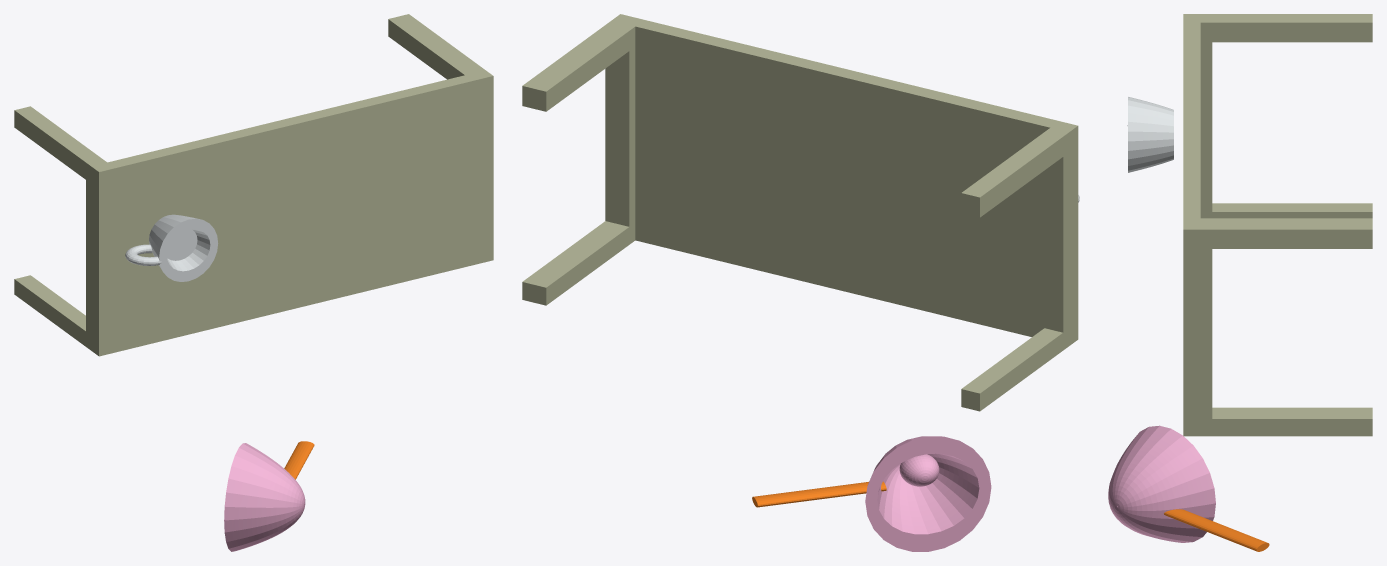
The model's file is tinker.obj.
3 views of the same model, side by side, from view 1: azimuth 30°, elevation 25°; view 2: azimuth 150°, elevation 25°; view 3: azimuth 270°, elevation 25° (orthographic). The views are drawn at different scales.
Visible parts, largest first — view 1: group_0_11909273, group_0_15708628, group_0_14541540, group_0_16089887; view 2: group_0_11909273, group_0_15708628, group_0_16089887; view 3: group_0_11909273, group_0_15708628, group_0_14541540, group_0_16089887.
Boxes of the visible parts, x1=… form: group_0_11909273: x1=14, y1=14, x2=493, y2=356; group_0_15708628: x1=224, y1=443, x2=305, y2=551; group_0_14541540: x1=125, y1=214, x2=218, y2=281; group_0_16089887: x1=284, y1=441, x2=314, y2=479; group_0_11909273: x1=522, y1=14, x2=1078, y2=411; group_0_15708628: x1=865, y1=436, x2=991, y2=551; group_0_16089887: x1=752, y1=481, x2=886, y2=507; group_0_11909273: x1=1183, y1=14, x2=1372, y2=436; group_0_15708628: x1=1108, y1=425, x2=1215, y2=542; group_0_14541540: x1=1127, y1=97, x2=1173, y2=172; group_0_16089887: x1=1164, y1=509, x2=1269, y2=551.
Bounding box in the file's own units: 133 × 131 × 69.2.
